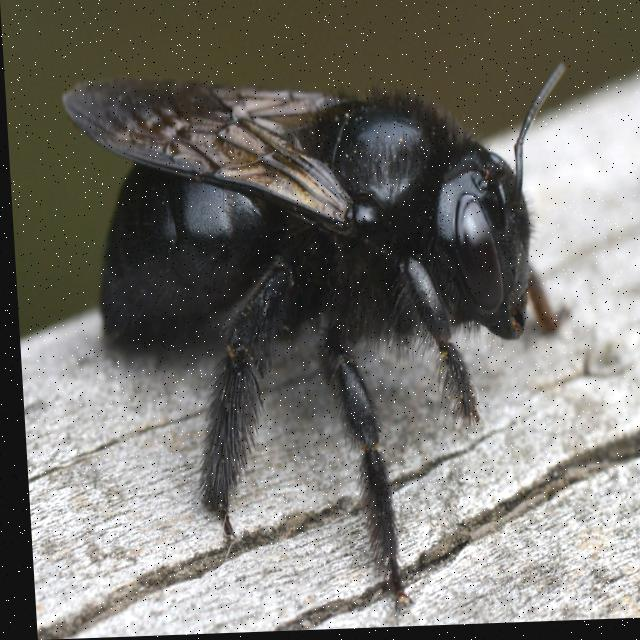Allodapula: (57, 31, 617, 576)
